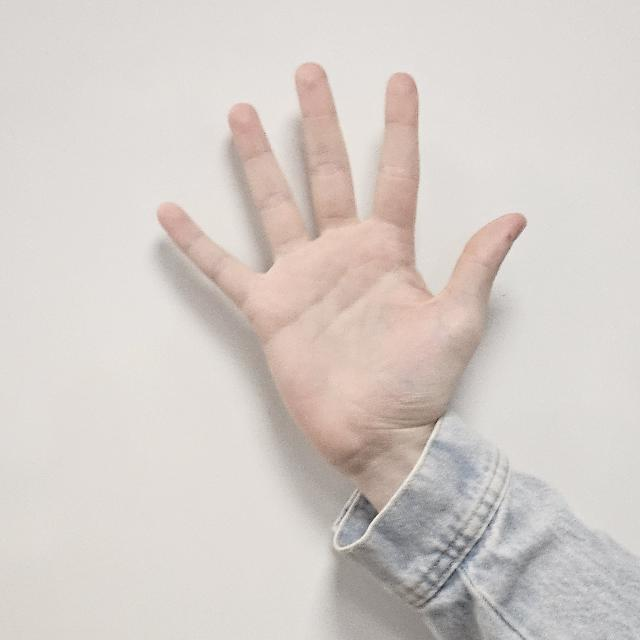X: (152, 61, 528, 481)
